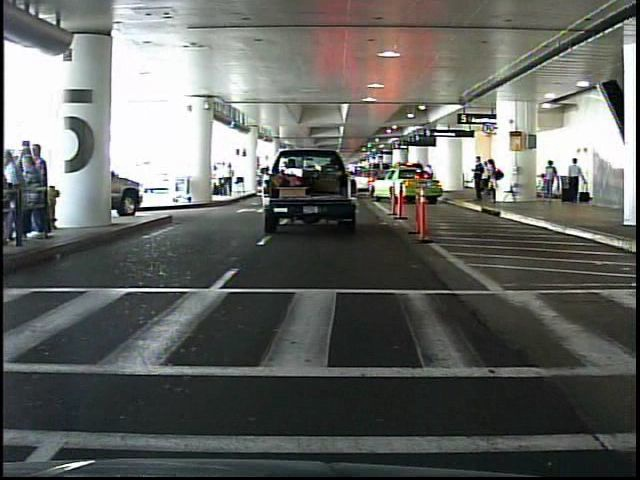person: (470, 154, 487, 206), (487, 157, 503, 205)
